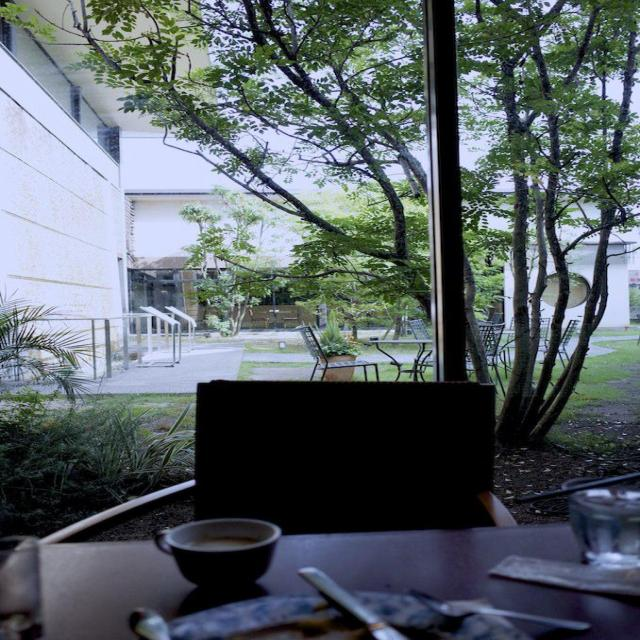Coffee: (164, 523, 296, 597)
